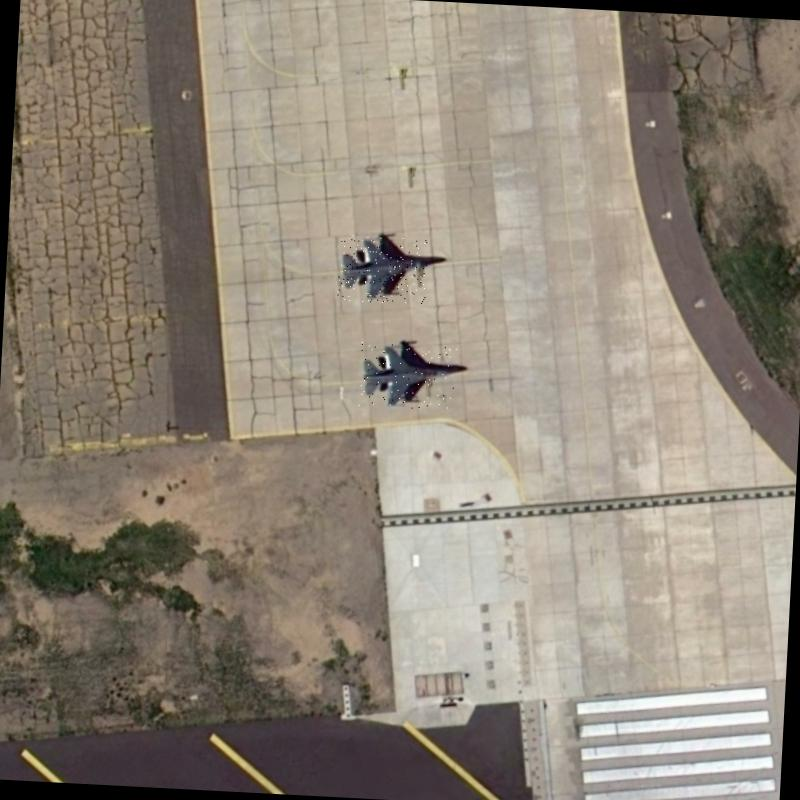A5: (358, 341, 457, 411), (338, 235, 428, 306)
